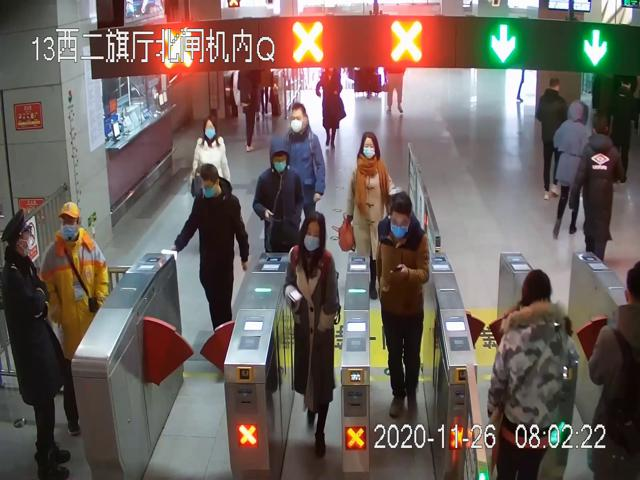person: (1, 210, 73, 480), (41, 199, 110, 437), (172, 164, 251, 370), (284, 214, 341, 457), (374, 192, 432, 419), (340, 131, 395, 300), (253, 136, 305, 255)
